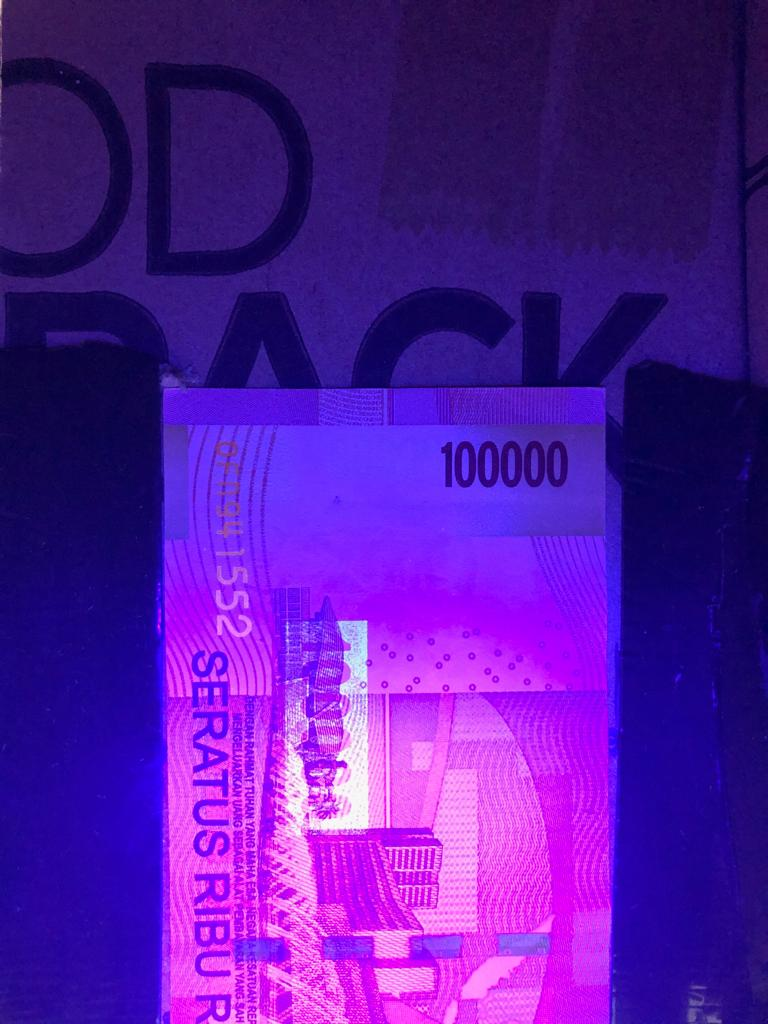100_RIBU_ASLI: (276, 610, 374, 837)
